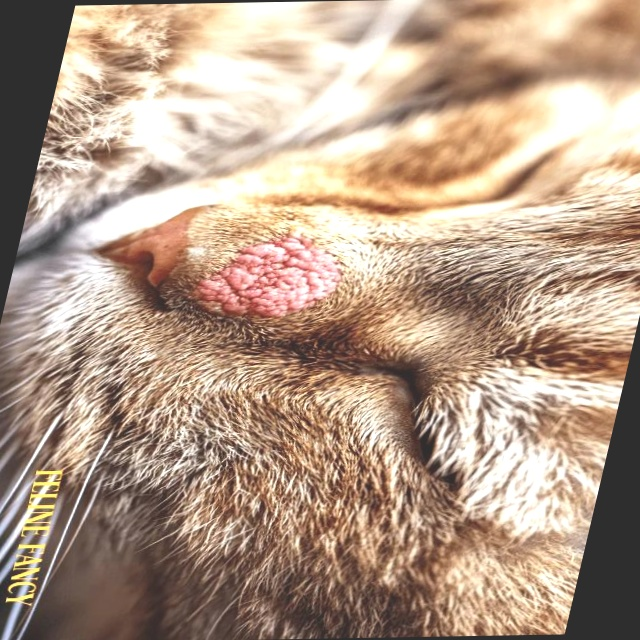lump_and_bump: (187, 239, 353, 318)
